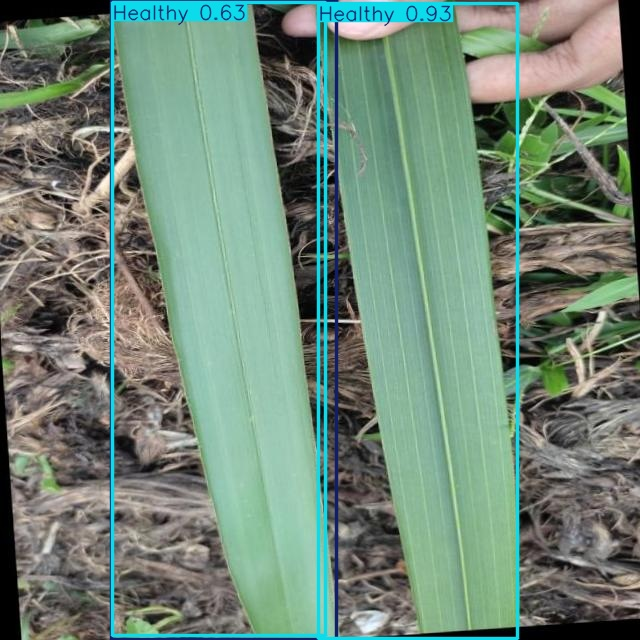Healthy: (113, 2, 326, 635), (318, 4, 518, 639)
nitrogen: (112, 1, 337, 639)
